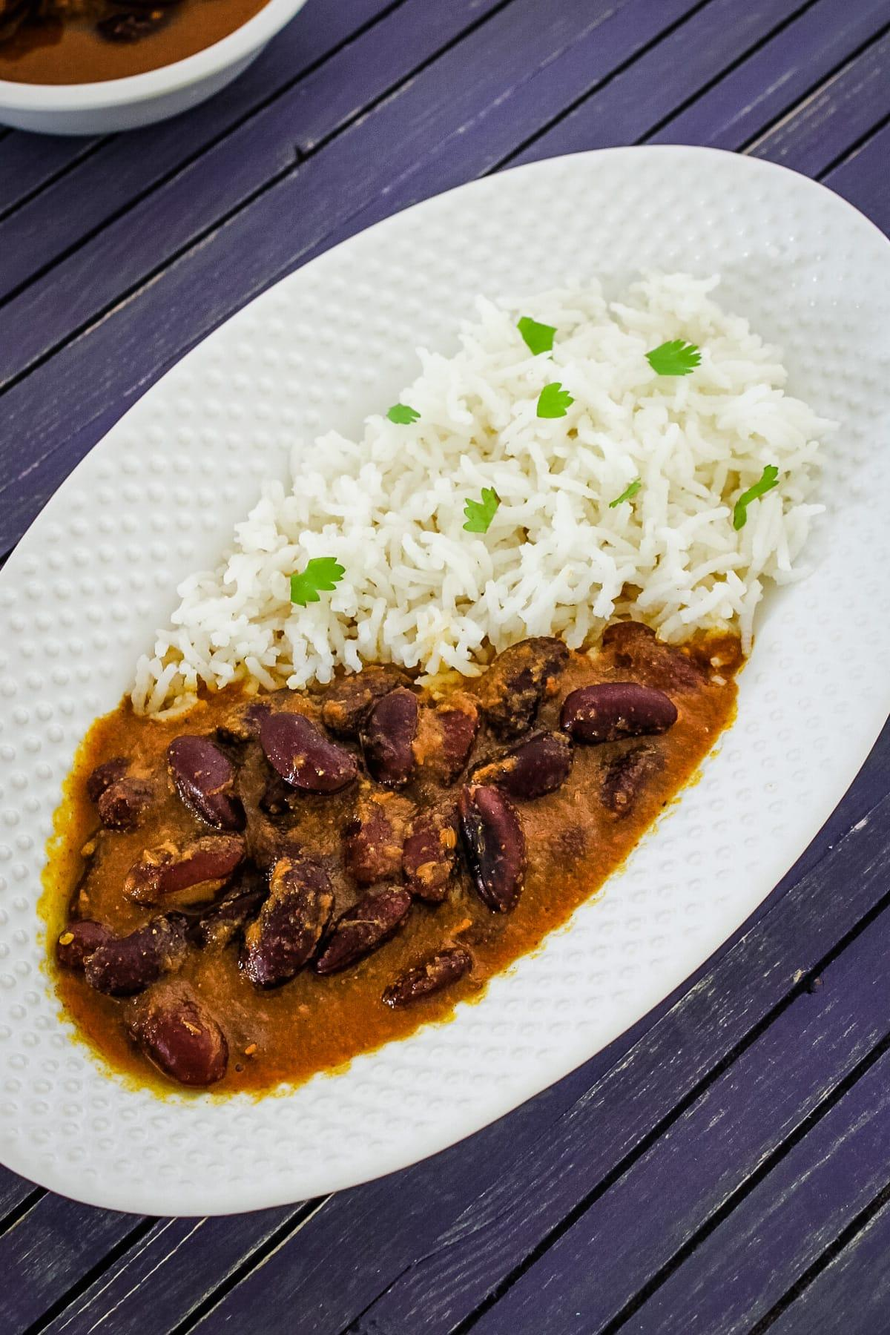rajma: (100, 716, 601, 1031)
rice: (341, 293, 790, 616)
